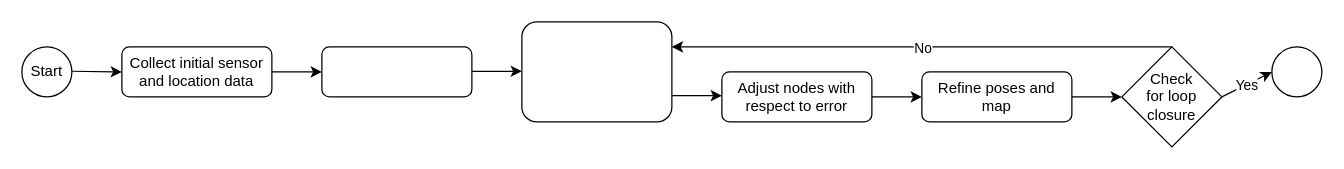
Image size: 1344x169. Some labels were removed from this diagram. The centre of each missing label's shape, as x and y in pixels:
"Collect data from sensor and apply positional adjustments" belongs at (596,71).
"Create initial pose graph" belongs at (396,71).
"End" belongs at (1296,71).
